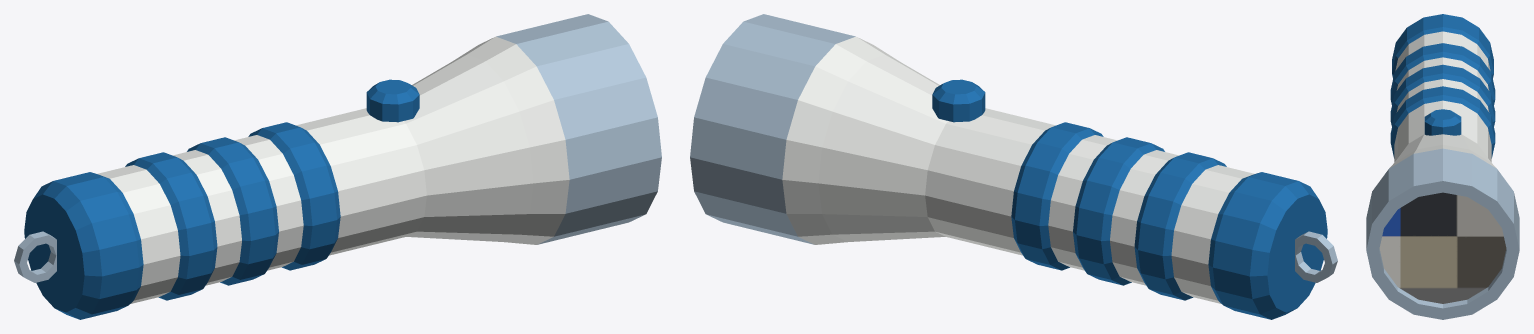
The model's file is Item_Lanterna.fbx.
The picture shows the model from 3 angles, left to right: view 1: azimuth 30°, elevation 25°; view 2: azimuth 150°, elevation 25°; view 3: azimuth 270°, elevation 25°; orthographic projection. The views are drawn at different scales.
Visible parts, largest first — view 1: Item_Lanterna; view 2: Item_Lanterna; view 3: Item_Lanterna.
Boxes of the visible parts, x1,y1,x2,y2 form: Item_Lanterna: (14, 14, 661, 319); Item_Lanterna: (690, 14, 1337, 319); Item_Lanterna: (1366, 14, 1519, 319).
Bounding box in the file's own units: 0.1923 × 0.06 × 0.06.
1 material, 1 textured.
